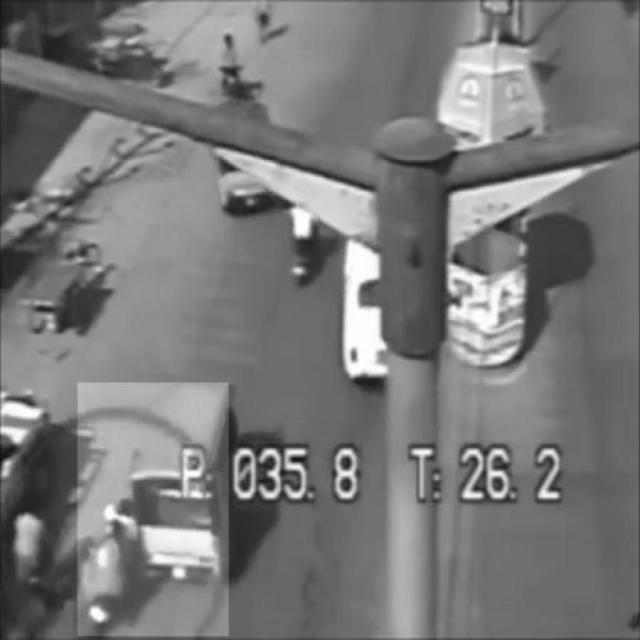accident: (78, 383, 229, 636)
